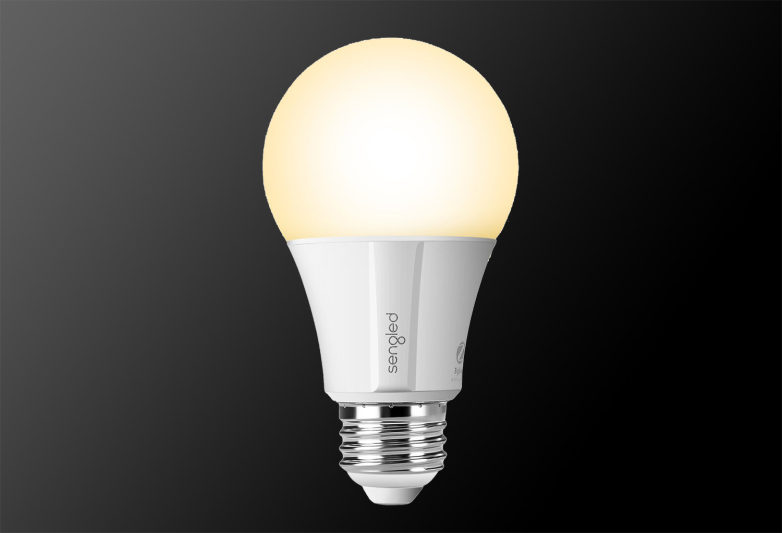Nonrec_Glass: (248, 38, 518, 512)
